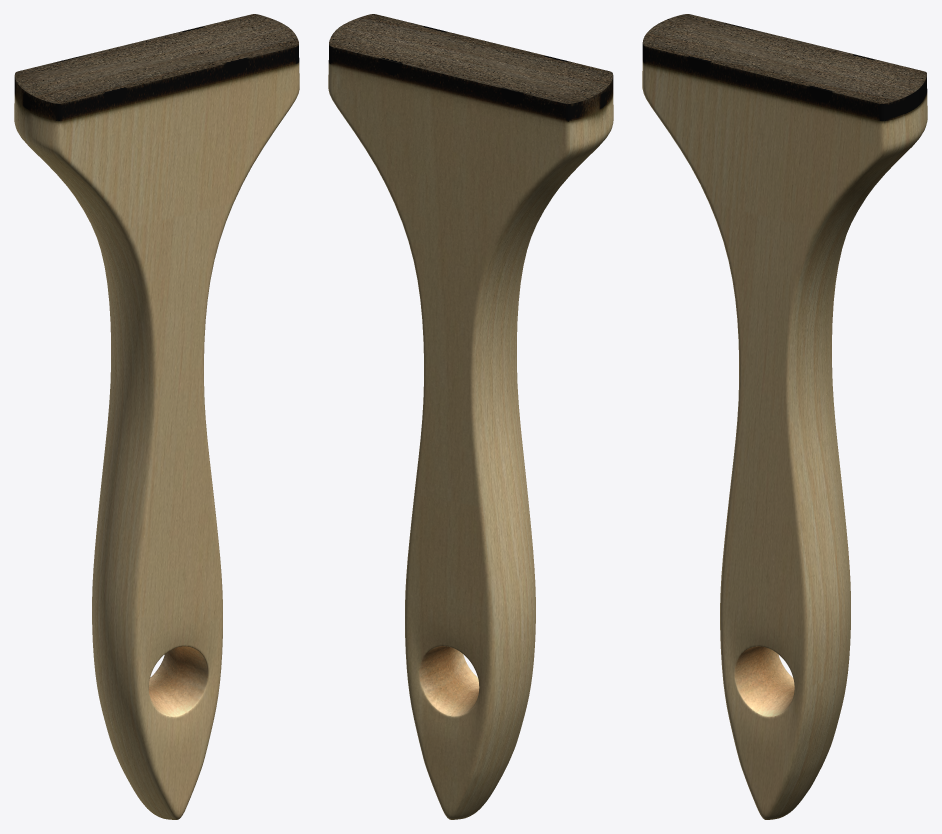
Rendered from shoubing1.glb.
3 renders of one model, left to right at view 1: azimuth 30°, elevation 25°; view 2: azimuth 150°, elevation 25°; view 3: azimuth 330°, elevation 25°, orthographic.
Visible parts, largest first — view 1: shoubing1; view 2: shoubing1; view 3: shoubing1.
Boxes of the visible parts, <box> form: shoubing1: <box>14,14,299,819</box>; shoubing1: <box>328,14,613,819</box>; shoubing1: <box>642,14,927,819</box>.
Bounding box in the file's own units: 0.5001 × 1.37 × 0.1456.
1 material, 1 textured.
